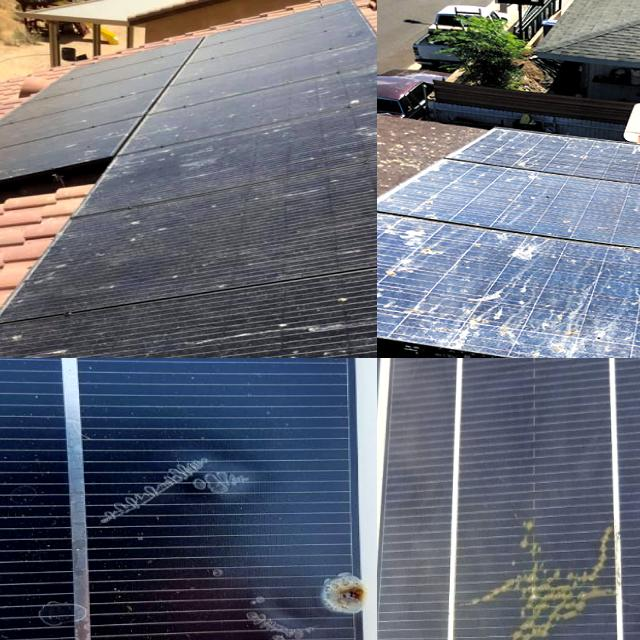bird: (248, 298, 336, 358), (377, 211, 443, 289), (469, 228, 561, 278), (425, 300, 528, 343), (0, 322, 107, 358), (120, 200, 176, 252), (614, 240, 640, 345), (377, 292, 420, 331), (351, 104, 377, 151)
shadow: (404, 485, 637, 640), (301, 553, 377, 640)
